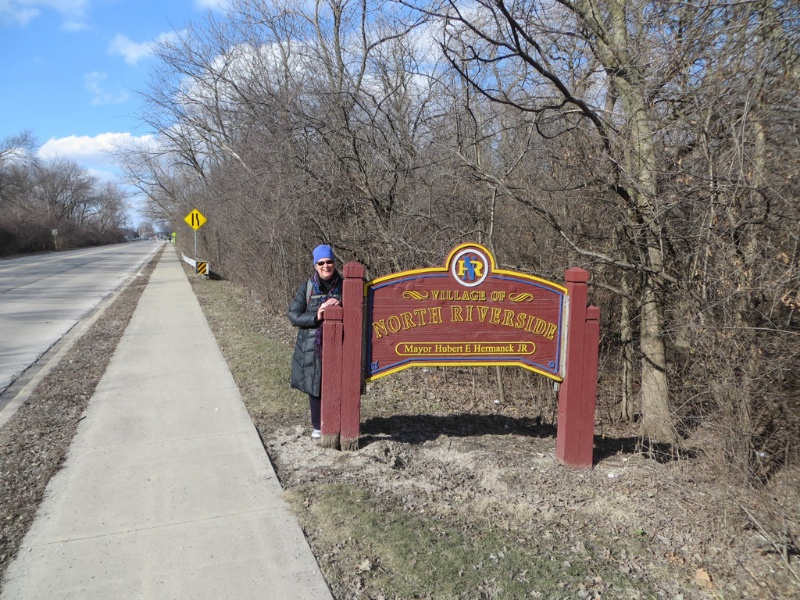narrow_road_ahead: (182, 206, 211, 233)
